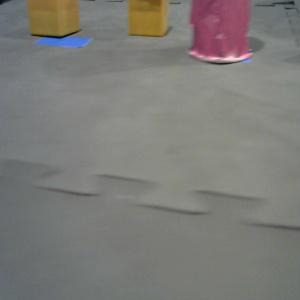Right: (186, 1, 253, 64)
